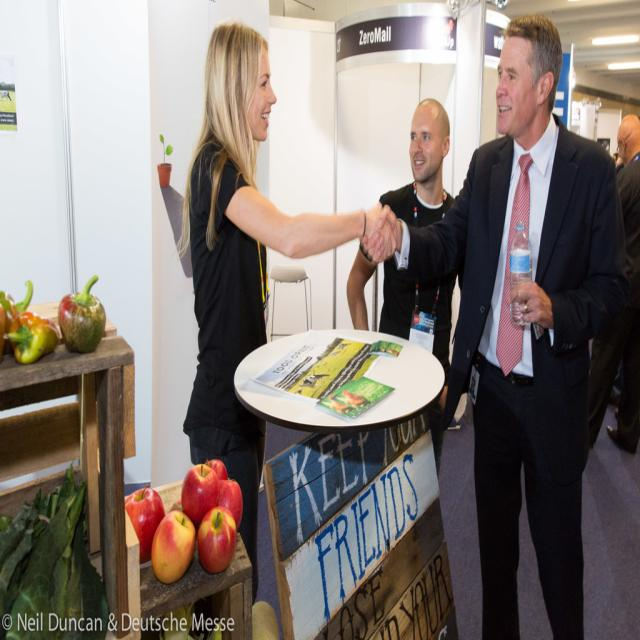Healty Apple: (151, 507, 196, 583), (179, 463, 220, 534), (125, 488, 164, 562), (198, 508, 236, 575), (218, 480, 244, 532), (205, 459, 230, 480)
